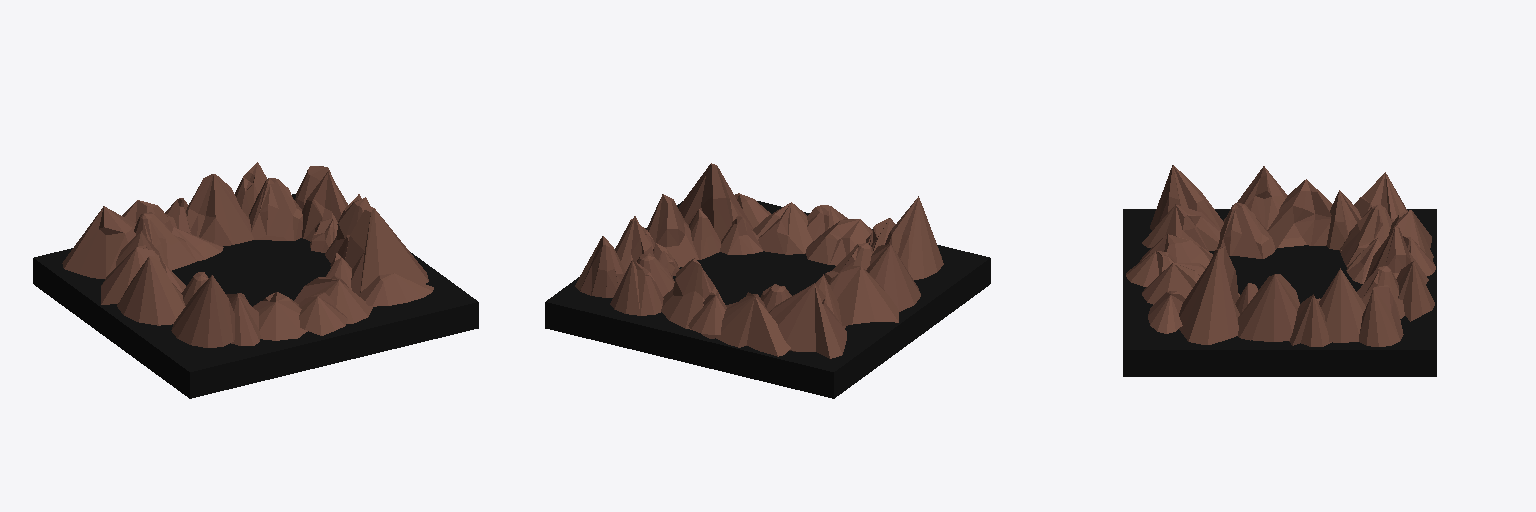
3 renders of one model, left to right at view 1: azimuth 30°, elevation 25°; view 2: azimuth 150°, elevation 25°; view 3: azimuth 270°, elevation 25°, orthographic.
Visible parts, largest first — view 1: group[number redacted]; view 2: group[number redacted]; view 3: group[number redacted].
Boxes of the visible parts, x1=… form: group[number redacted]: x1=33, y1=162, x2=478, y2=398; group[number redacted]: x1=545, y1=163, x2=990, y2=398; group[number redacted]: x1=1123, y1=165, x2=1436, y2=376.
Size of the model in its own units: 8.89 by 2.96 by 8.35.